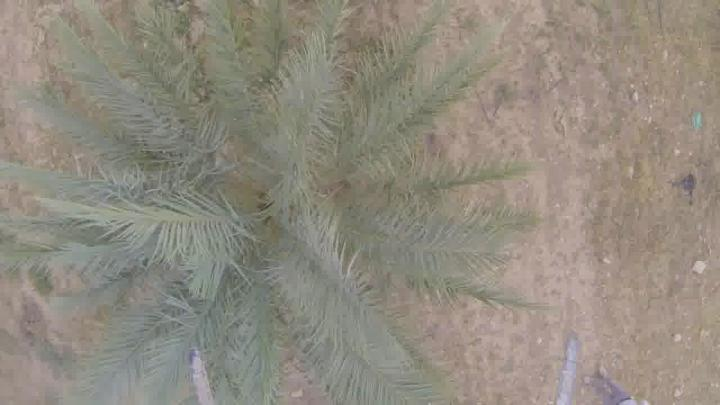Date-Palm-Crown: (115, 51, 396, 337)
